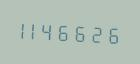four: (47, 18, 61, 43)
one: (17, 17, 31, 41), (32, 18, 46, 42)
six: (62, 19, 76, 44), (77, 20, 91, 45), (107, 21, 121, 46)
two: (92, 21, 106, 45)
